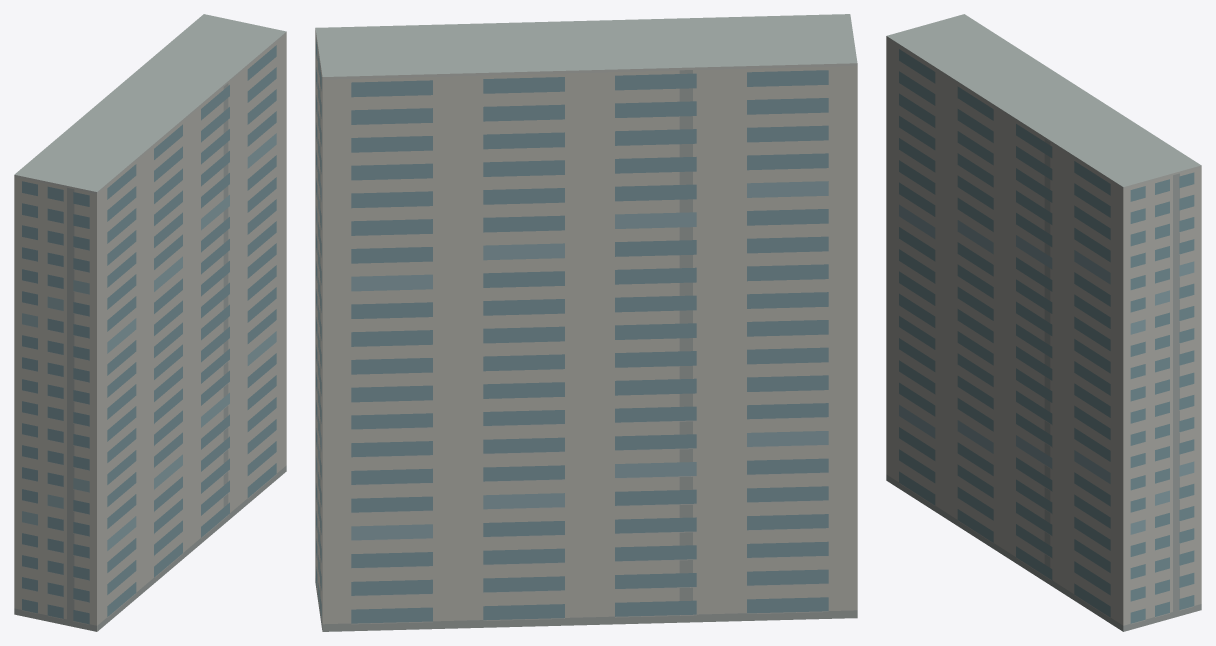
The model's file is residential-d4feb902-a8d6-4637-9250-18f613c5afa8.glb.
The picture shows the model from 3 angles, left to right: view 1: azimuth 30°, elevation 25°; view 2: azimuth 150°, elevation 25°; view 3: azimuth 270°, elevation 25°; orthographic projection. The views are drawn at different scales.
Visible parts, largest first — view 1: residential-d4feb902-a8d6-4637-9250-18f613c5afa8.tmp; view 2: residential-d4feb902-a8d6-4637-9250-18f613c5afa8.tmp; view 3: residential-d4feb902-a8d6-4637-9250-18f613c5afa8.tmp.
Boxes of the visible parts, left/top/right/bottom form: residential-d4feb902-a8d6-4637-9250-18f613c5afa8.tmp: left=14, top=14, right=286, bottom=631; residential-d4feb902-a8d6-4637-9250-18f613c5afa8.tmp: left=315, top=14, right=857, bottom=631; residential-d4feb902-a8d6-4637-9250-18f613c5afa8.tmp: left=886, top=14, right=1201, bottom=631.
Size of the model in its own units: 46.79 by 56 by 35.98.
